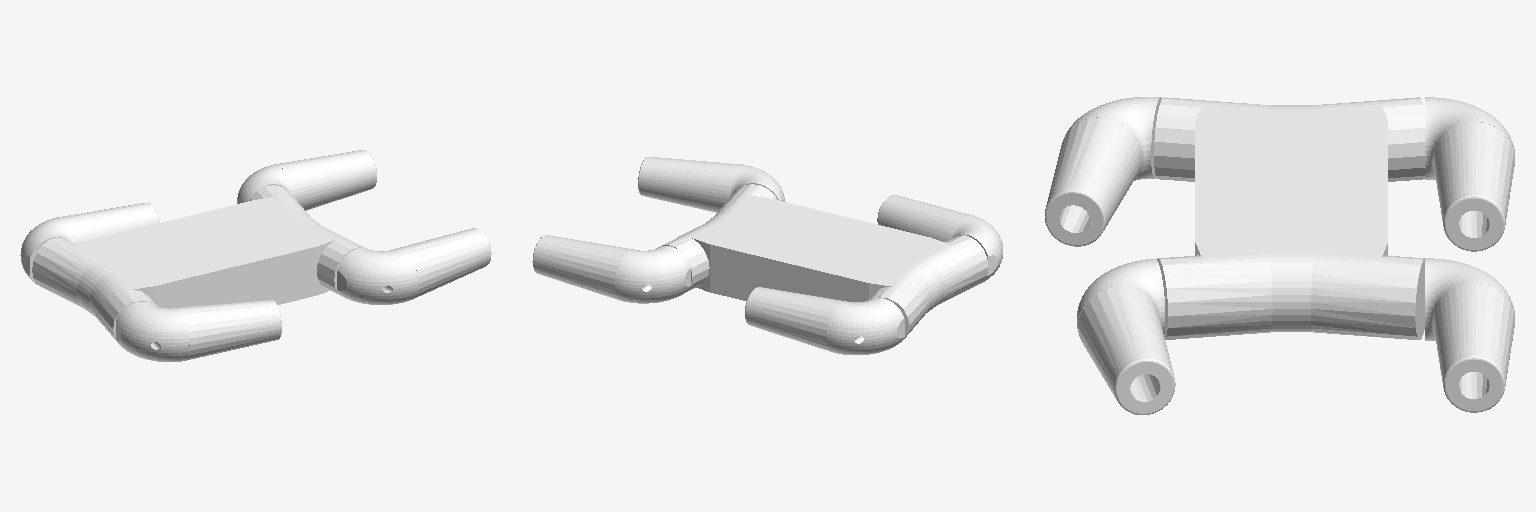
The robot description file, URDF, robot "10_degree":
<?xml version="1.0" encoding="utf-8"?>
<!-- This URDF was automatically created by SolidWorks to URDF Exporter! Originally created by [author] ([email redacted]) 
     Commit Version: 1.5.1-0-g916b5db  Build Version: 1.5.7152.31018
     For more information, please see http://wiki.ros.org/sw_urdf_exporter -->
<robot
  name="10_degree">
  <link
    name="base_link">
    <inertial>
      <origin
        xyz="6.9389E-18 2.5386E-08 5.2042E-18"
        rpy="0 0 0" />
      <mass
        value="2.942" />
      <inertia
        ixx="0.0101715"
        ixy="-2.7363E-18"
        ixz="-1.5243E-10"
        iyy="0.0411603"
        iyz="2.8056E-18"
        izz="0.0489398" />
    </inertial>
    <visual>
      <origin
        xyz="0 0 0"
        rpy="0 0 0" />
      <geometry>
        <mesh
          filename="package://10_degree/meshes/base_link.STL" />
      </geometry>
      <material
        name="">
        <color
          rgba="1 1 1 1" />
      </material>
    </visual>
    <collision>
      <origin
        xyz="0 0 0"
        rpy="0 0 0" />
      <geometry>
        <mesh
          filename="package://10_degree/meshes/base_link.STL" />
      </geometry>
    </collision>
  </link>
  <link
    name="left_front_link">
    <inertial>
      <origin
        xyz="-2.4436E-08 0.062219 -0.025595"
        rpy="0 0 0" />
      <mass
        value="0.092" />
      <inertia
        ixx="0.0002604"
        ixy="3.9679E-10"
        ixz="1.0027E-09"
        iyy="0.0000510"
        iyz="-1.37E-05"
        izz="0.0002591" />
    </inertial>
    <visual>
      <origin
        xyz="0 0 0"
        rpy="0 0 0" />
      <geometry>
        <mesh
          filename="package://10_degree/meshes/left_front_link.STL" />
      </geometry>
      <material
        name="">
        <color
          rgba="1 1 1 1" />
      </material>
    </visual>
    <collision>
      <origin
        xyz="0 0 0"
        rpy="0 0 0" />
      <geometry>
        <mesh
          filename="package://10_degree/meshes/left_front_link.STL" />
      </geometry>
    </collision>
  </link>
  <joint
    name="left_front_leg"
    type="continuous">
    <origin
      xyz="0.14789 0.10144 0"
      rpy="1.5708 1.5708 0" />
    <parent
      link="base_link" />
    <child
      link="left_front_link" />
    <axis
      xyz="0 0.17365 -0.98481" />
    <limit
      effort="5"
      velocity="487" />
  </joint>
  <link
    name="right_front_link">
    <inertial>
      <origin
        xyz="2.4436E-08 0.062219 0.025595"
        rpy="0 0 0" />
      <mass
        value="0.092" />
      <inertia
        ixx="0.0002604"
        ixy="-3.9679E-10"
        ixz="1.0027E-09"
        iyy="0.0000510"
        iyz="1.37E-05"
        izz="0.0002591" />
    </inertial>
    <visual>
      <origin
        xyz="0 0 0"
        rpy="0 0 0" />
      <geometry>
        <mesh
          filename="package://10_degree/meshes/right_front_link.STL" />
      </geometry>
      <material
        name="">
        <color
          rgba="1 1 1 1" />
      </material>
    </visual>
    <collision>
      <origin
        xyz="0 0 0"
        rpy="0 0 0" />
      <geometry>
        <mesh
          filename="package://10_degree/meshes/right_front_link.STL" />
      </geometry>
    </collision>
  </link>
  <joint
    name="right_front_leg"
    type="continuous">
    <origin
      xyz="0.14789 -0.10144 0"
      rpy="1.5708 1.5708 0" />
    <parent
      link="base_link" />
    <child
      link="right_front_link" />
    <axis
      xyz="0 0.17365 0.98481" />
    <limit
      effort="5"
      velocity="487" />
  </joint>
  <link
    name="right_back_link">
    <inertial>
      <origin
        xyz="5.7759E-09 0.05683 0.03601"
        rpy="0 0 0" />
      <mass
        value="0.092" />
      <inertia
        ixx="0.0002604"
        ixy="-5.3462E-10"
        ixz="5.876E-10"
        iyy="0.0000526"
        iyz="-2.27E-05"
        izz="0.0002575" />
    </inertial>
    <visual>
      <origin
        xyz="0 0 0"
        rpy="0 0 0" />
      <geometry>
        <mesh
          filename="package://10_degree/meshes/right_back_link.STL" />
      </geometry>
      <material
        name="">
        <color
          rgba="1 1 1 1" />
      </material>
    </visual>
    <collision>
      <origin
        xyz="0 0 0"
        rpy="0 0 0" />
      <geometry>
        <mesh
          filename="package://10_degree/meshes/right_back_link.STL" />
      </geometry>
    </collision>
  </link>
  <joint
    name="right_back_leg"
    type="continuous">
    <origin
      xyz="-0.14789 -0.10144 0"
      rpy="1.7453 1.5708 0" />
    <parent
      link="base_link" />
    <child
      link="right_back_link" />
    <axis
      xyz="0 0 1" />
    <limit
      effort="5"
      velocity="487" />
  </joint>
  <link
    name="left_back_link">
    <inertial>
      <origin
        xyz="-5.7759E-09 0.049714 -0.045332"
        rpy="0 0 0" />
      <mass
        value="0.092" />
      <inertia
        ixx="0.0002604"
        ixy="6.2854E-10"
        ixz="4.8584E-10"
        iyy="0.0000665"
        iyz="0.0000563"
        izz="0.0002436" />
    </inertial>
    <visual>
      <origin
        xyz="0 0 0"
        rpy="0 0 0" />
      <geometry>
        <mesh
          filename="package://10_degree/meshes/left_back_link.STL" />
      </geometry>
      <material
        name="">
        <color
          rgba="1 1 1 1" />
      </material>
    </visual>
    <collision>
      <origin
        xyz="0 0 0"
        rpy="0 0 0" />
      <geometry>
        <mesh
          filename="package://10_degree/meshes/left_back_link.STL" />
      </geometry>
    </collision>
  </link>
  <joint
    name="left_back_leg"
    type="continuous">
    <origin
      xyz="-0.14789 0.10144 0"
      rpy="1.5708 1.5708 0" />
    <parent
      link="base_link" />
    <child
      link="left_back_link" />
    <axis
      xyz="0 -0.17365 -0.98481" />
    <limit
      effort="5"
      velocity="487" />
  </joint>
</robot>

--- Facts derived from the render (not from the file) ---
Views: 3 orthographic renders of the robot side by side, from view 1: azimuth 30°, elevation 25°; view 2: azimuth 150°, elevation 25°; view 3: azimuth 270°, elevation 25°.
Robot: 10_degree — 5 links, 4 joints (4 continuous); root link base_link; default pose: all joints at 0.
Links seen in each view (by area): view 1: base_link, right_back_link, right_front_link, left_front_link, left_back_link; view 2: base_link, left_back_link, left_front_link, right_front_link, right_back_link; view 3: base_link, right_back_link, right_front_link, left_front_link, left_back_link.
Boxes of the visible links, x1,y1,x2,y2 form: base_link: (32, 185, 364, 339); right_back_link: (116, 300, 281, 361); right_front_link: (337, 228, 491, 304); left_front_link: (237, 150, 376, 210); left_back_link: (20, 203, 159, 283); base_link: (660, 184, 988, 340); left_back_link: (745, 287, 904, 354); left_front_link: (532, 235, 691, 303); right_front_link: (638, 157, 784, 212); right_back_link: (877, 195, 1002, 283); base_link: (1154, 97, 1425, 339); right_back_link: (1045, 97, 1161, 246); right_front_link: (1077, 259, 1175, 414); left_front_link: (1425, 258, 1514, 412); left_back_link: (1425, 97, 1514, 251).
Size in the robot's own frame: 0.4948 by 0.3655 by 0.064 metres.
5 mesh visuals loaded from 5 distinct referenced files (5 binary STL).